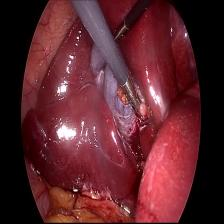Grasper: (130, 86, 149, 124)
